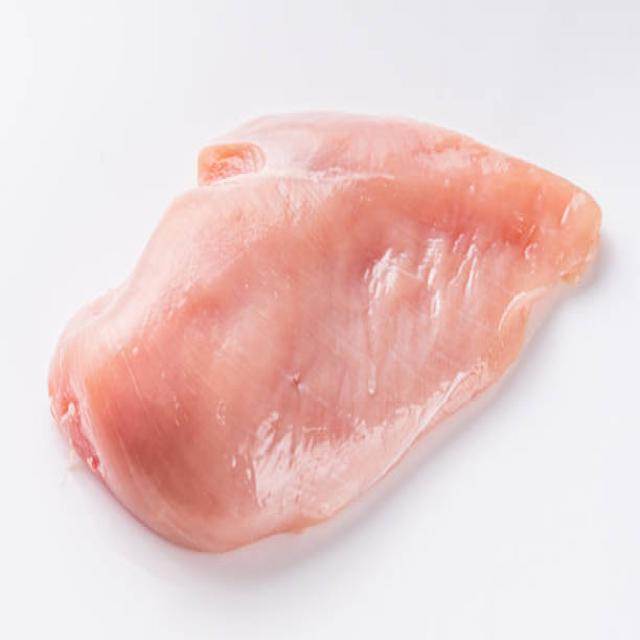Chicken: (19, 63, 627, 598)
